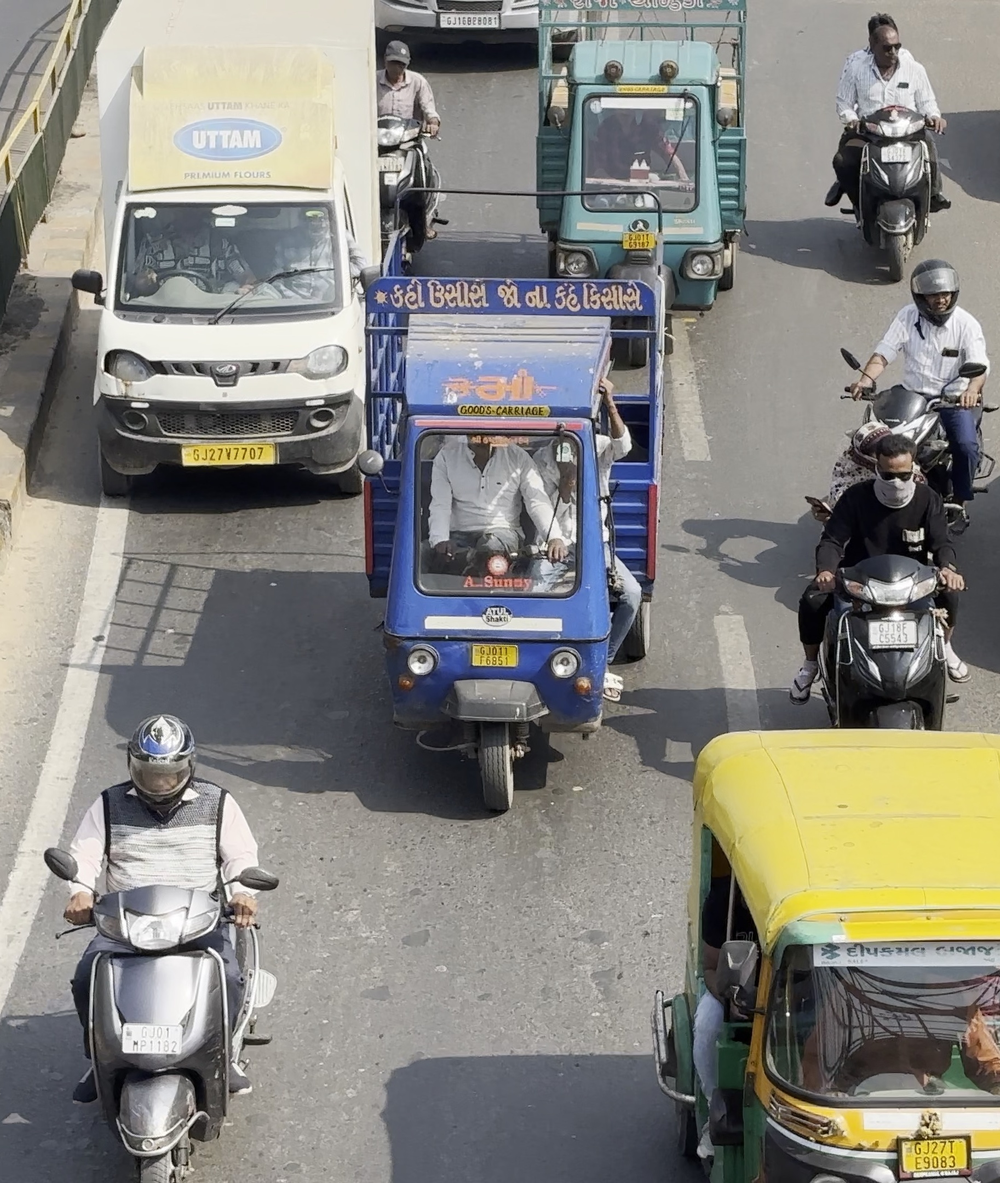BikeWithRider: (31, 703, 291, 1181), (780, 421, 977, 750), (817, 252, 998, 539), (813, 5, 962, 288), (342, 26, 463, 326), (363, 28, 456, 277)
Helmet: (116, 706, 205, 817), (903, 254, 968, 327)
NoHelmet: (862, 431, 929, 513), (847, 417, 905, 481), (860, 13, 909, 69), (378, 35, 415, 83)
